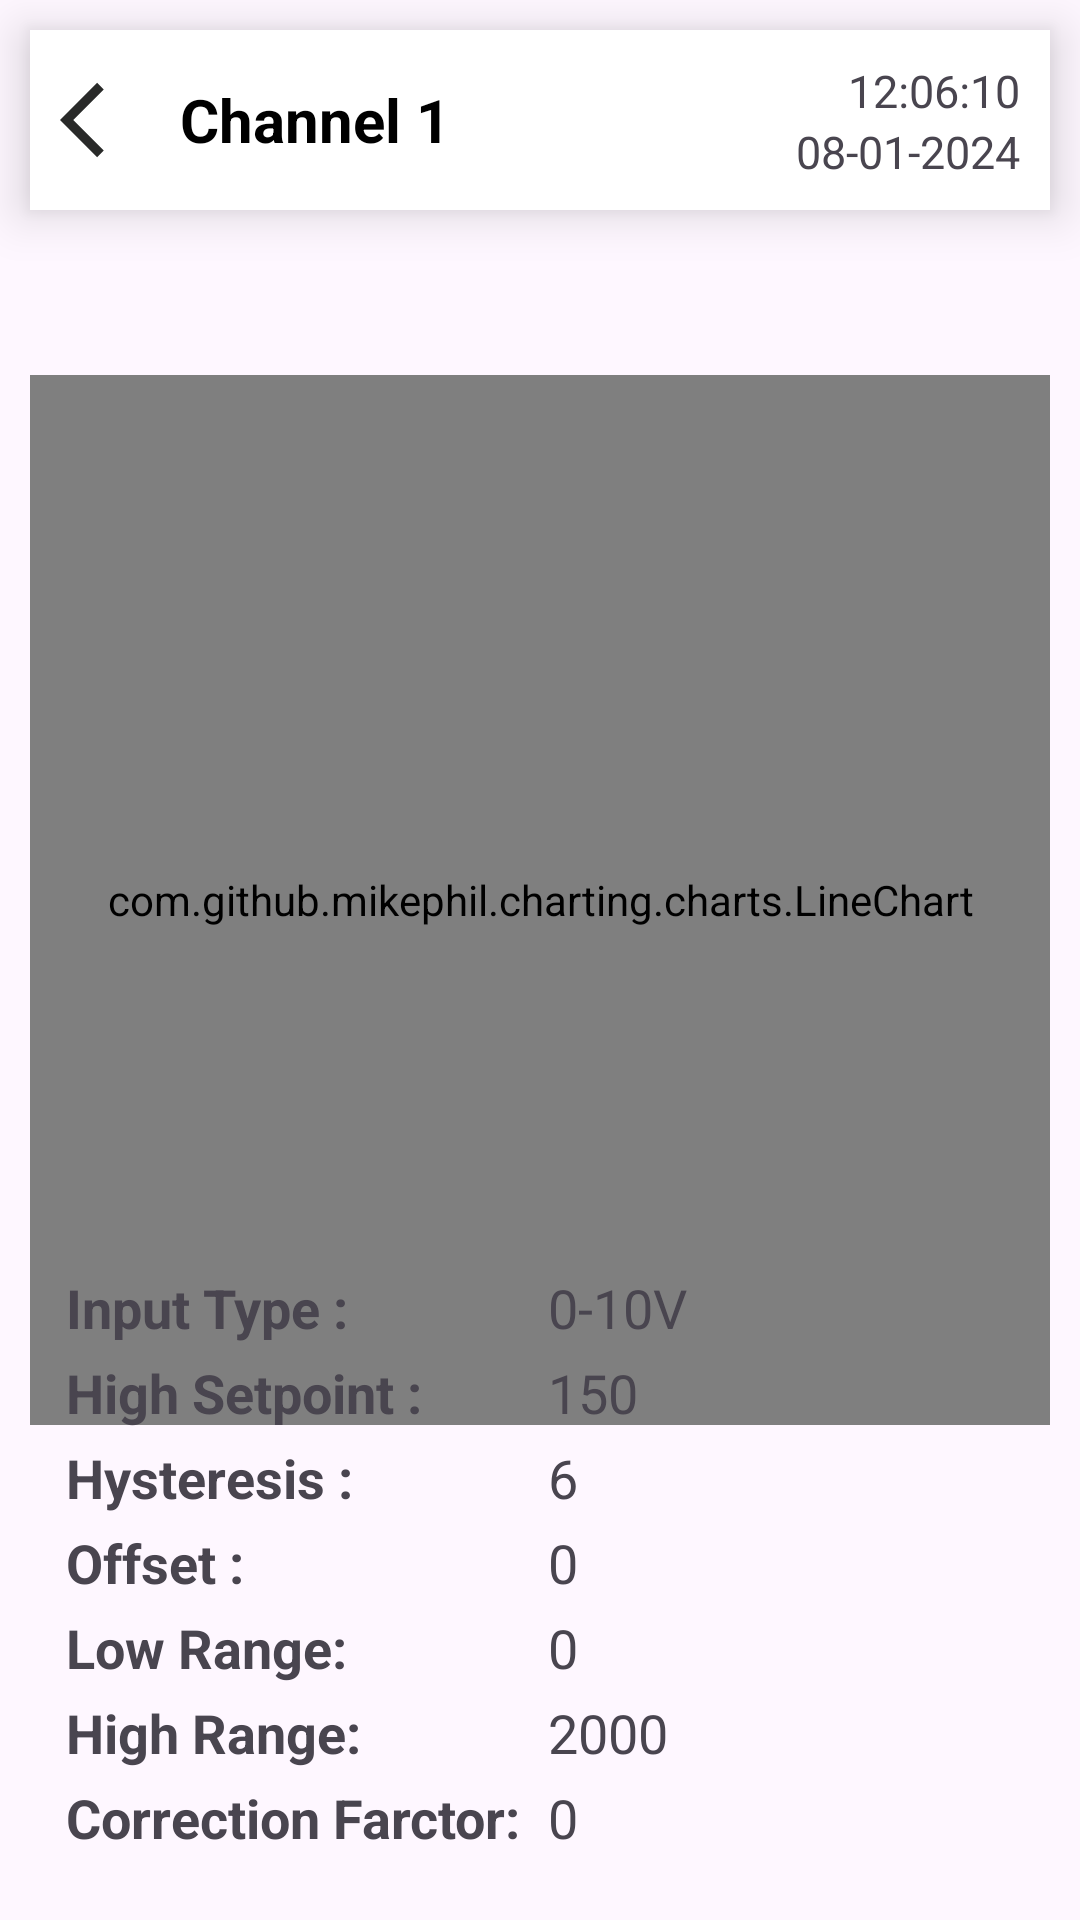

Where to tap for icons on this 1080w x 1920h app screen, as (x,y):
arrow back: (82,120)
